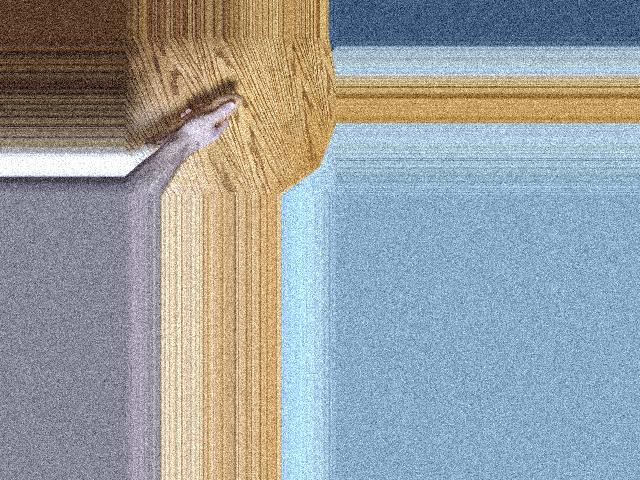sweet_potato: (142, 95, 237, 150)
